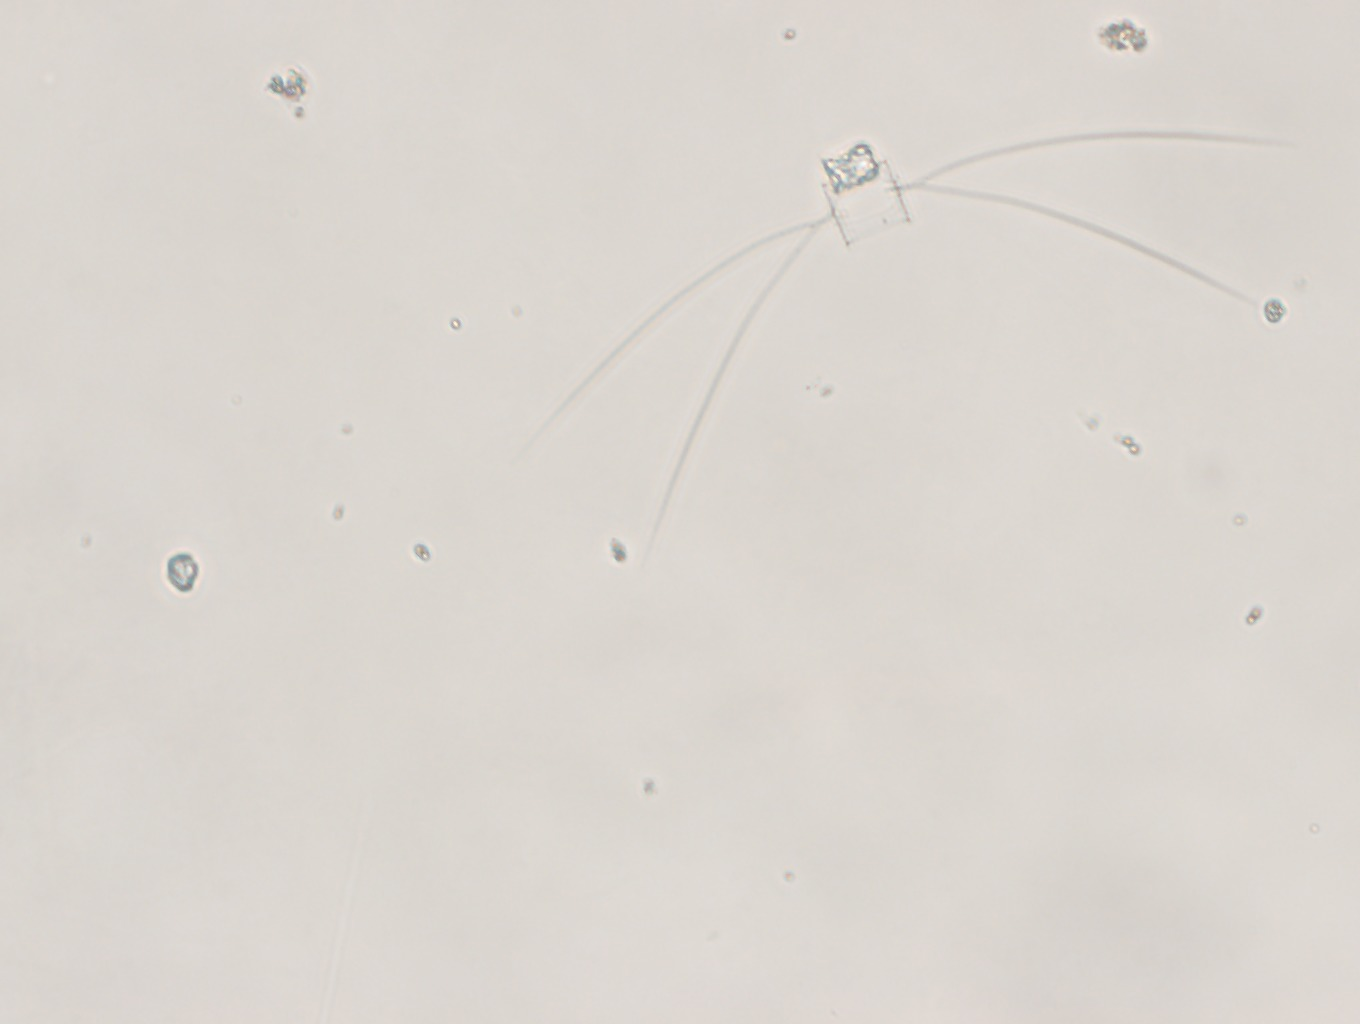chaetoceros: (496, 123, 1277, 566)
